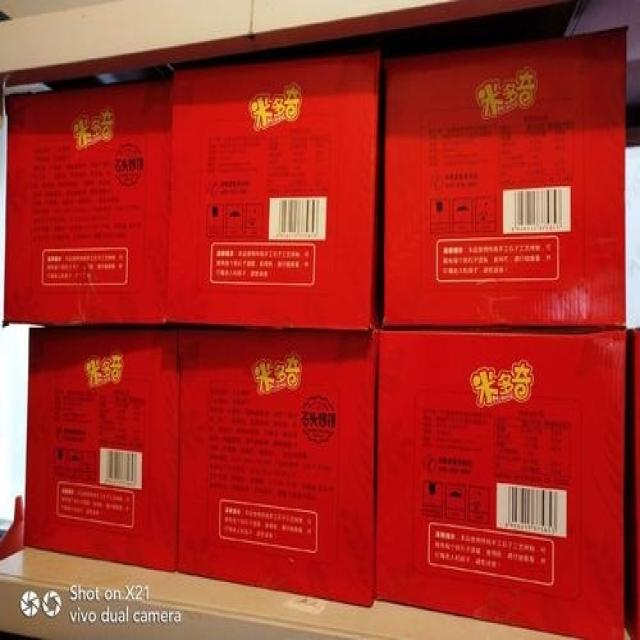box: (375, 329, 627, 638), (382, 32, 625, 328), (167, 57, 379, 331), (178, 330, 377, 608), (0, 76, 171, 326), (24, 327, 180, 572)
